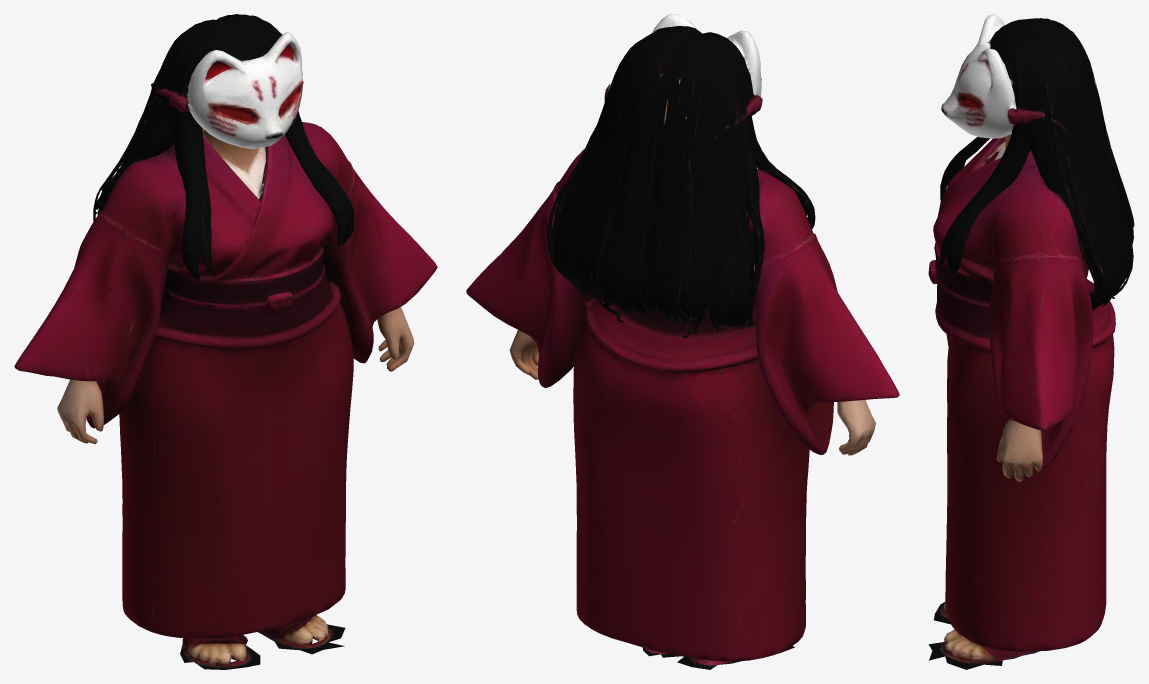
The model's file is kitsune.glb.
3 views of the same model, side by side, from view 1: azimuth 30°, elevation 25°; view 2: azimuth 150°, elevation 25°; view 3: azimuth 270°, elevation 25° (orthographic). The views are drawn at different scales.
Parts seen in each view (by area): view 1: doll; view 2: doll; view 3: doll.
Boxes of the visible parts, left/top/right/bottom form: doll: left=14, top=14, right=437, bottom=669; doll: left=466, top=14, right=899, bottom=669; doll: left=928, top=14, right=1134, bottom=669.
Bounding box in the file's own units: 0.7337 × 1 × 0.3101.
Materials: 1 (1 with a texture image).
